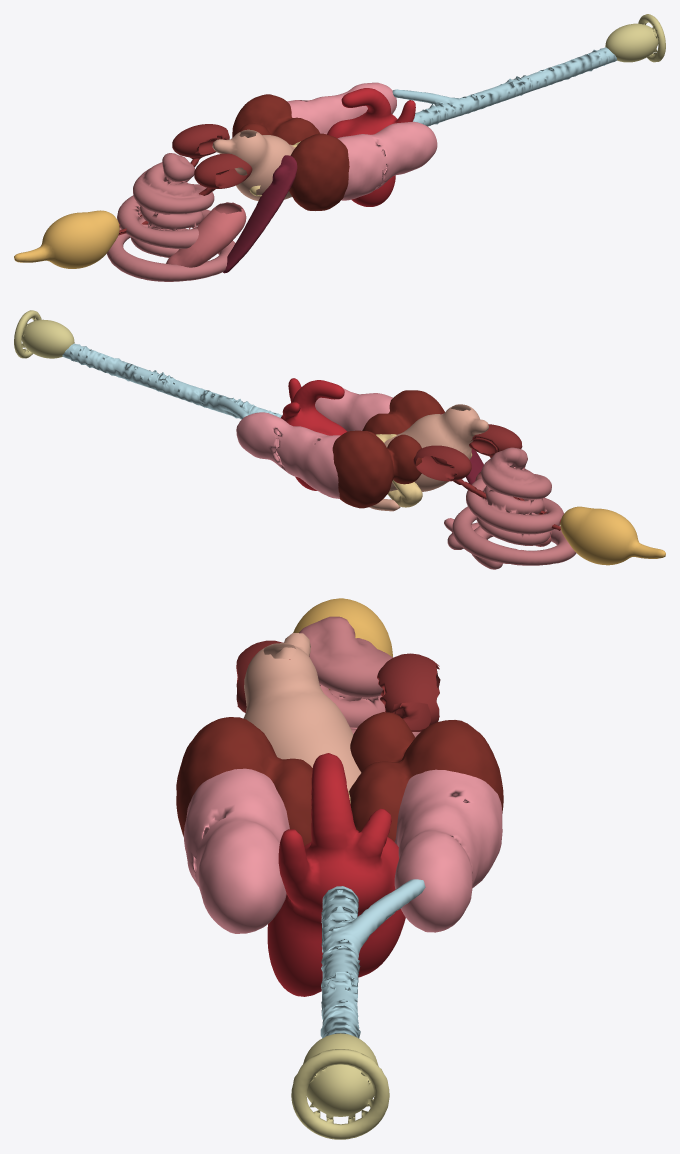
File: pig_organs_model.obj
3 views of the same model, one above another, from view 1: azimuth 30°, elevation 25°; view 2: azimuth 150°, elevation 25°; view 3: azimuth 270°, elevation 25° (orthographic). The views are drawn at different scales.
Parts seen in each view (by area): view 1: pig_spiral_colon, pig_lungs, pig_liver_lobules, pig_trachea_and_bronchus, pig_urinary_bladder, pig_kidneys, pig_heart, pig_stomach_diverticulum, pig_cecum, pig_spleen, pig_os_rostri; view 2: pig_spiral_colon, pig_liver_lobules, pig_lungs, pig_urinary_bladder, pig_trachea_and_bronchus, pig_stomach_diverticulum, pig_kidneys, pig_heart, pig_os_rostri, pig_pancreas; view 3: pig_lungs, pig_liver_lobules, pig_heart, pig_stomach_diverticulum, pig_os_rostri, pig_trachea_and_bronchus, pig_spiral_colon, pig_kidneys, pig_urinary_bladder.
Part boxes in pixels (x1,y1,x2,y2): pig_spiral_colon: (106,153,235,281); pig_lungs: (287,82,437,200); pig_liver_lobules: (232,94,349,210); pig_trachea_and_bronchus: (392,47,617,126); pig_urinary_bladder: (14,210,119,268); pig_kidneys: (118,124,252,235); pig_heart: (327,88,415,206); pig_stomach_diverticulum: (212,129,294,201); pig_cecum: (166,202,246,267); pig_spleen: (223,155,297,273); pig_os_rostri: (605,14,665,62); pig_spiral_colon: (444,447,576,569); pig_liver_lobules: (332,390,444,508); pig_lungs: (236,386,392,498); pig_urinary_bladder: (560,506,665,565); pig_trachea_and_bronchus: (62,343,281,419); pig_stomach_diverticulum: (369,404,488,511); pig_kidneys: (413,424,560,530); pig_heart: (281,378,347,490); pig_os_rostri: (14,310,74,358); pig_pancreas: (376,434,472,507); pig_lungs: (184,768,502,933); pig_liver_lobules: (176,712,503,845); pig_heart: (267,753,405,996); pig_stomach_diverticulum: (243,633,361,790); pig_os_rostri: (291,1033,389,1139); pig_trachea_and_bronchus: (320,879,425,1038); pig_spiral_colon: (299,616,420,737); pig_kidneys: (236,640,440,731); pig_urinary_bladder: (293,598,392,689).
Bounding box in the file's own units: 29.66 × 5.89 × 6.54.
